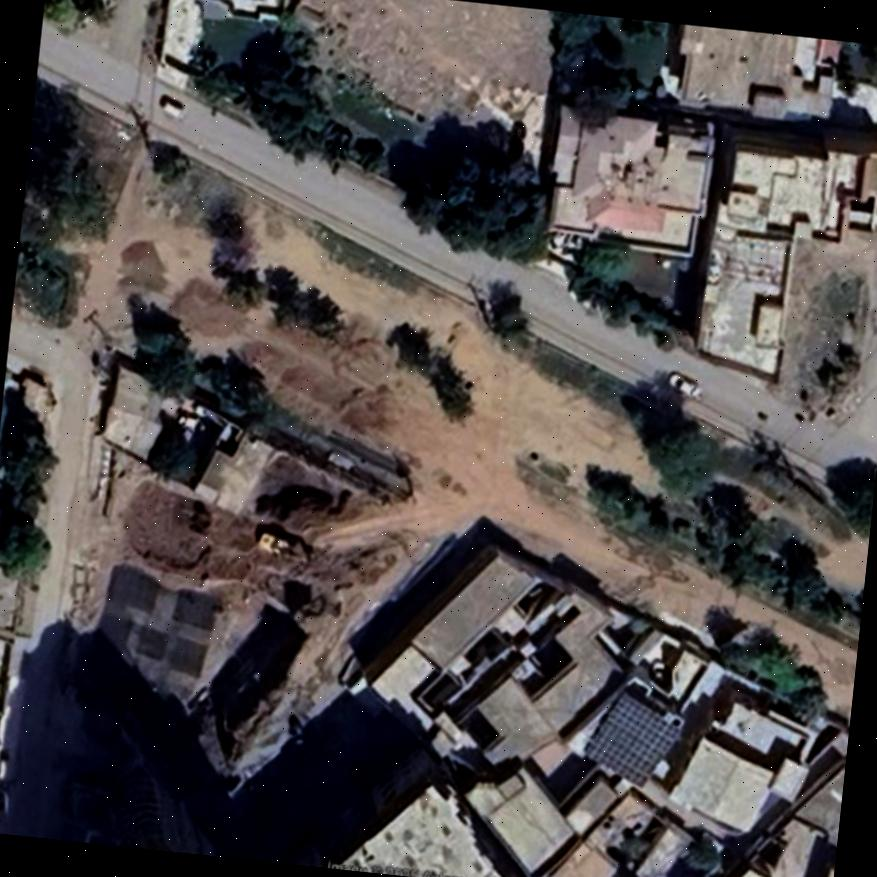Solarpanel: (584, 692, 679, 783)
